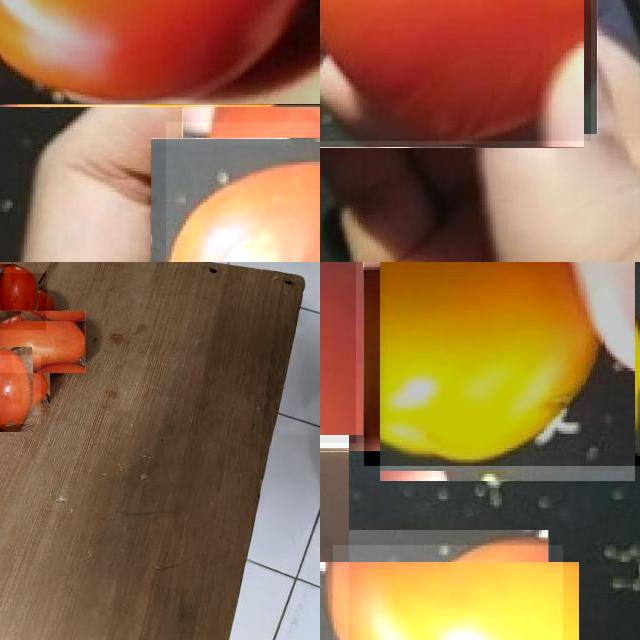0: (364, 262, 640, 466), (333, 545, 563, 640)
Fresh Tomato: (0, 0, 320, 105), (0, 310, 86, 373), (0, 355, 41, 424), (0, 273, 47, 330)
Rotten Tomato: (320, 0, 591, 141), (166, 122, 320, 262)
